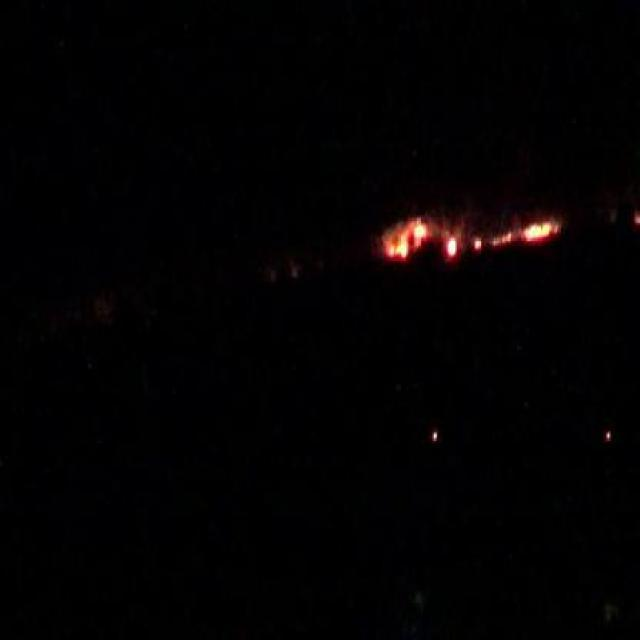Fire: (474, 218, 558, 247), (383, 220, 426, 258)
